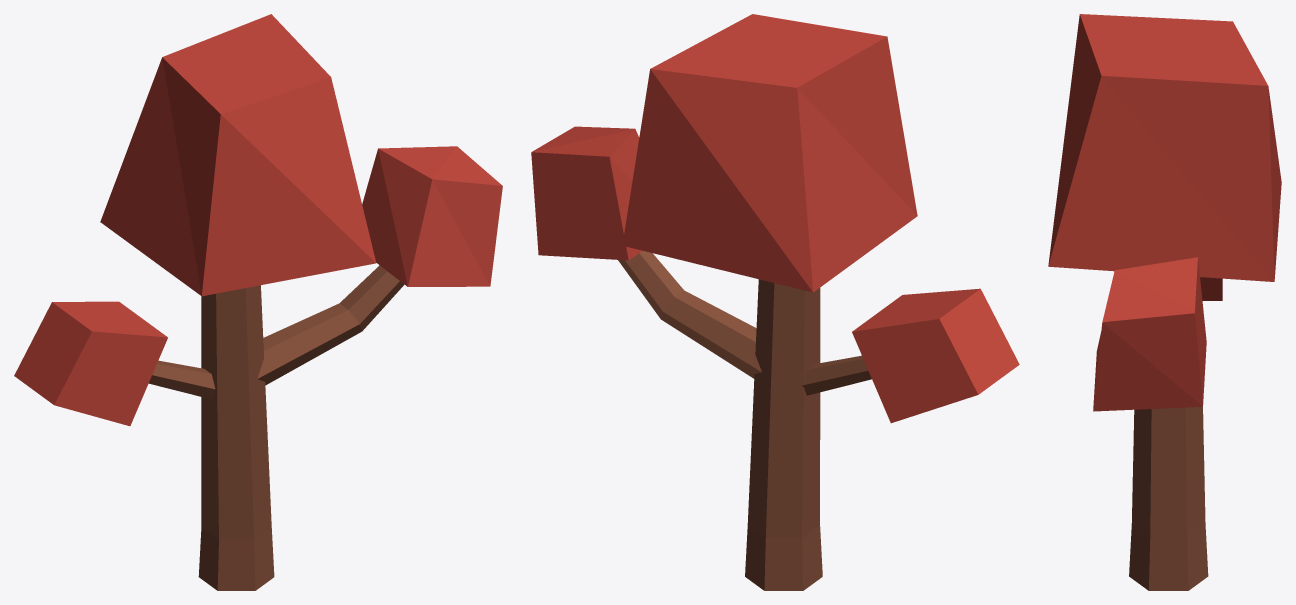
The model's file is Tree_44_summer_red_mat.fbx.
3 views of the same model, side by side, from view 1: azimuth 30°, elevation 25°; view 2: azimuth 150°, elevation 25°; view 3: azimuth 270°, elevation 25° (orthographic). The views are drawn at different scales.
Visible parts, largest first — view 1: Tree_44_summer_red_mat; view 2: Tree_44_summer_red_mat; view 3: Tree_44_summer_red_mat.
Part boxes in pixels (x1,y1,x2,y2): Tree_44_summer_red_mat: [14, 14, 502, 590]; Tree_44_summer_red_mat: [531, 14, 1019, 590]; Tree_44_summer_red_mat: [1048, 14, 1281, 590].
Bounding box in the file's own units: 162 × 179 × 70.99.
